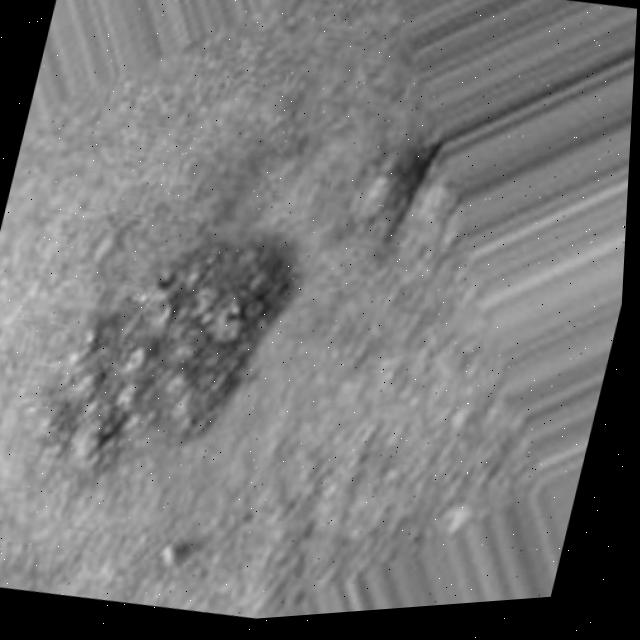Shingles: (33, 220, 303, 499)
